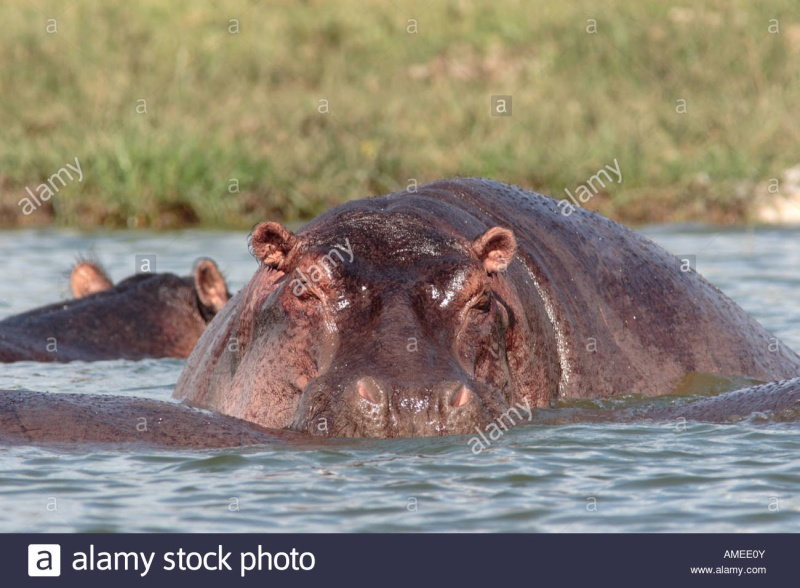hipopotamo: (164, 166, 761, 449)
